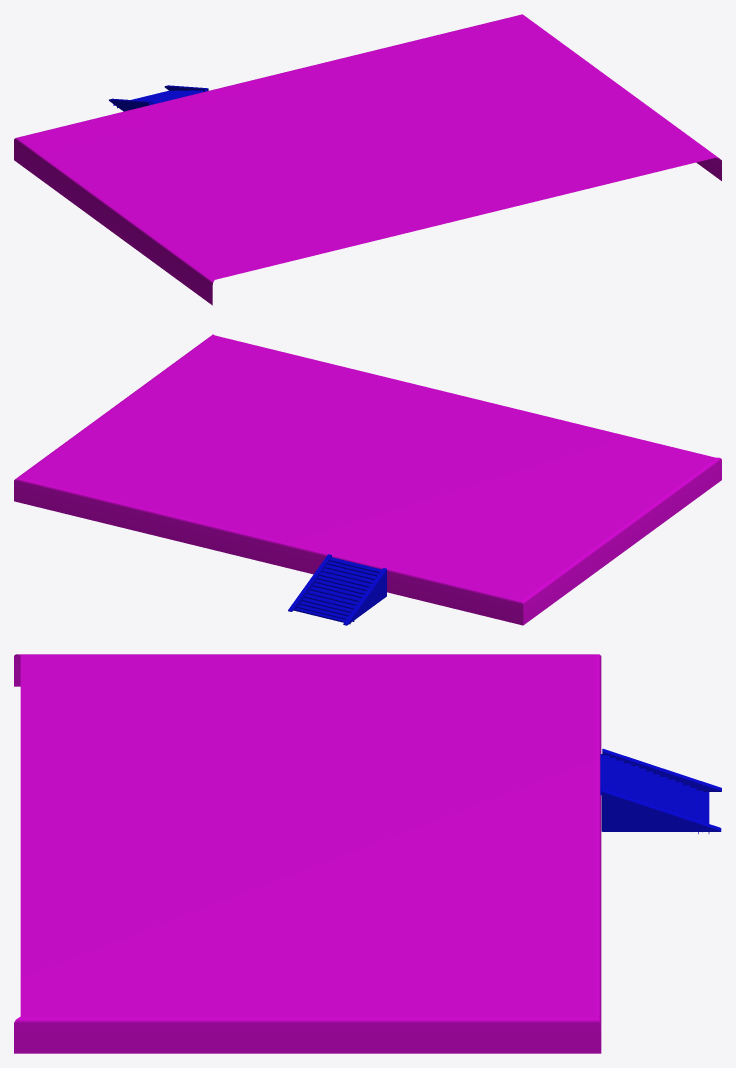
The model's file is frontPlatform Unity.fbx.
3 views of the same model, one above another, from view 1: azimuth 30°, elevation 25°; view 2: azimuth 150°, elevation 25°; view 3: azimuth 270°, elevation 25° (orthographic). The views are drawn at different scales.
Visible parts, largest first — view 1: frontPlatformUnity; view 2: frontPlatformUnity; view 3: frontPlatformUnity.
Part boxes in pixels (left/top/right/bottom): frontPlatformUnity: left=14, top=14, right=721, bottom=305; frontPlatformUnity: left=14, top=334, right=721, bottom=625; frontPlatformUnity: left=14, top=654, right=721, bottom=1053.
Bounding box in the file's own units: 25.18 × 1.4 × 20.53.
